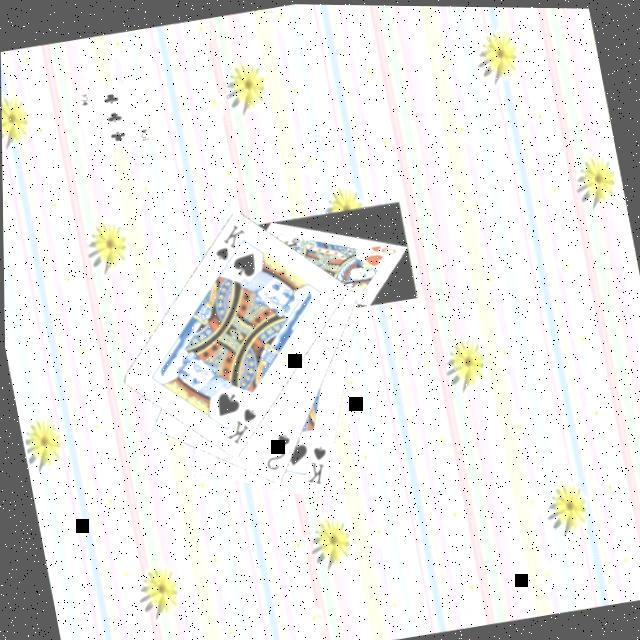2S: (254, 427, 295, 472)
KS: (204, 217, 253, 271), (215, 401, 262, 448), (295, 438, 333, 488)
